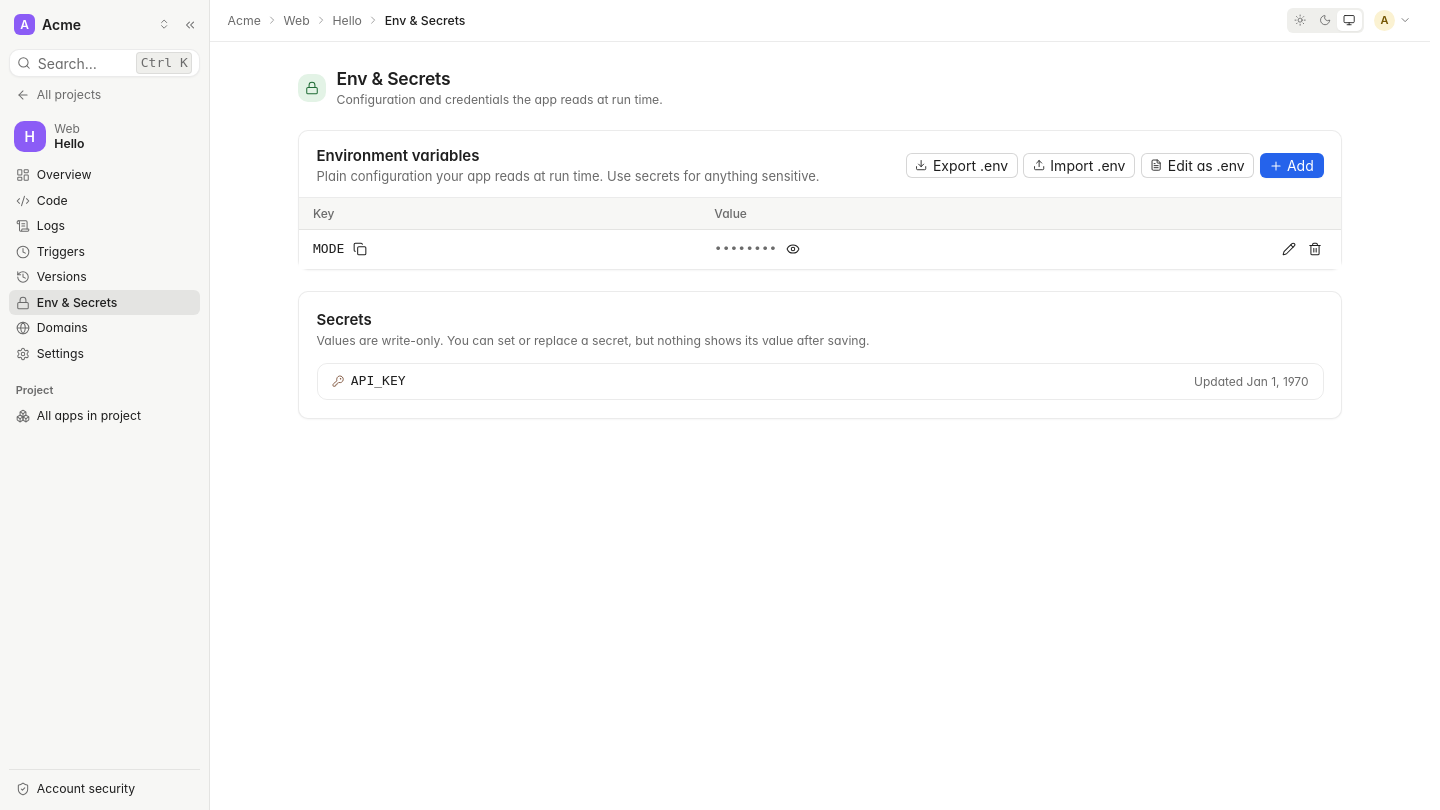
role gating › a 403 on save shows a permission toast
Click the button "Edit as .env" at (1197, 166), box [1140, 153, 1254, 178]
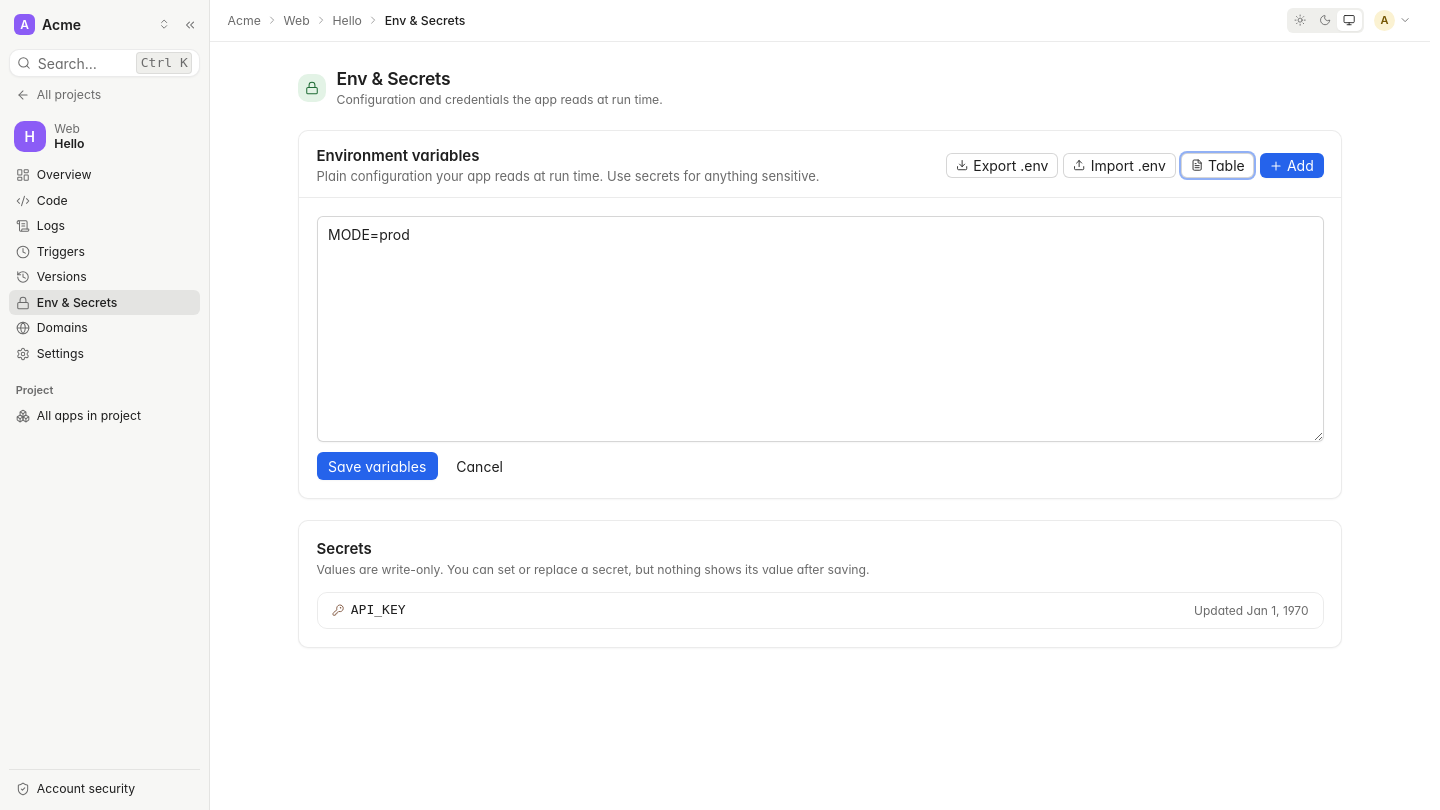
Click the button "Save variables" at (377, 466), box [316, 452, 438, 480]
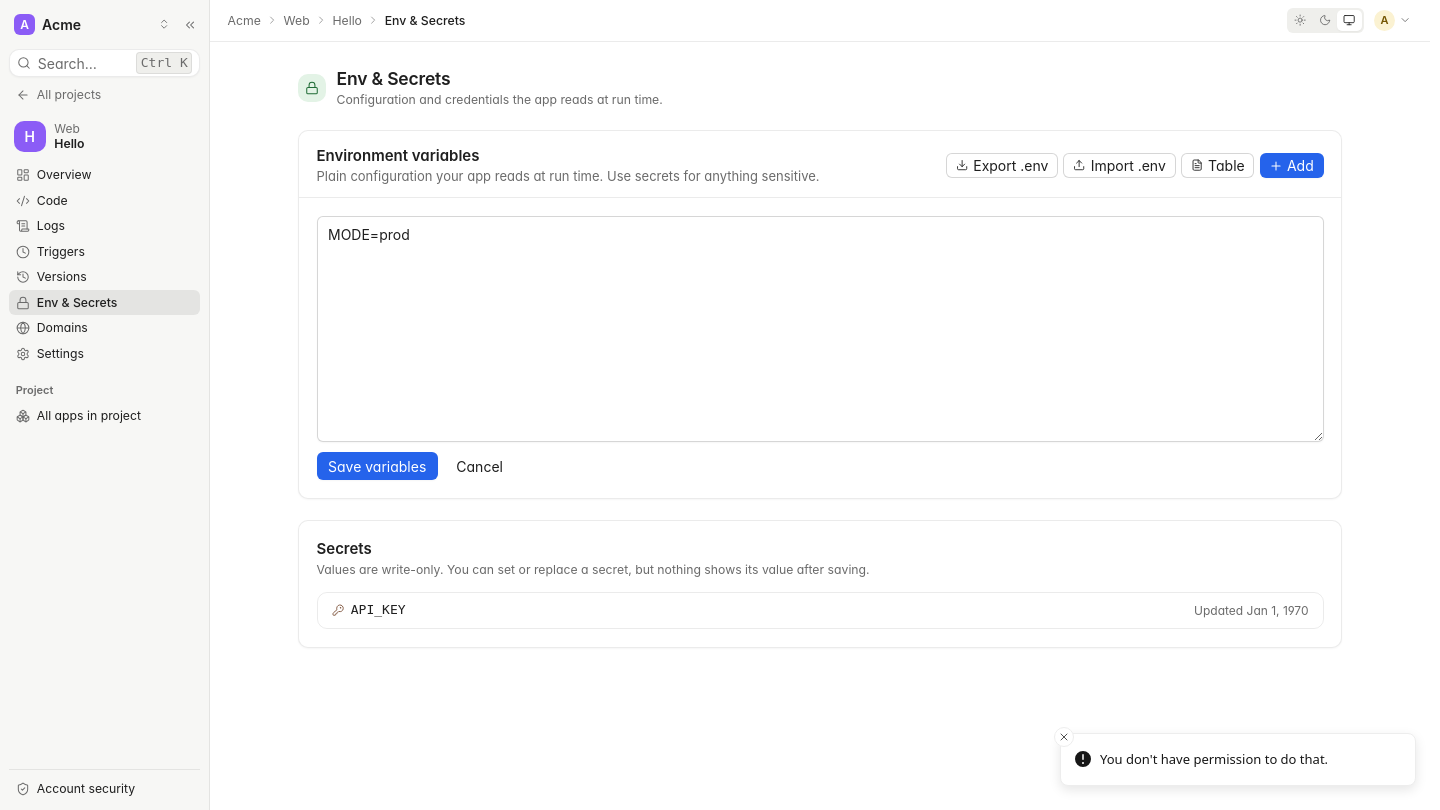
Result: the text "You don't have permission to do that." is shown at [1100, 750, 1328, 769]
